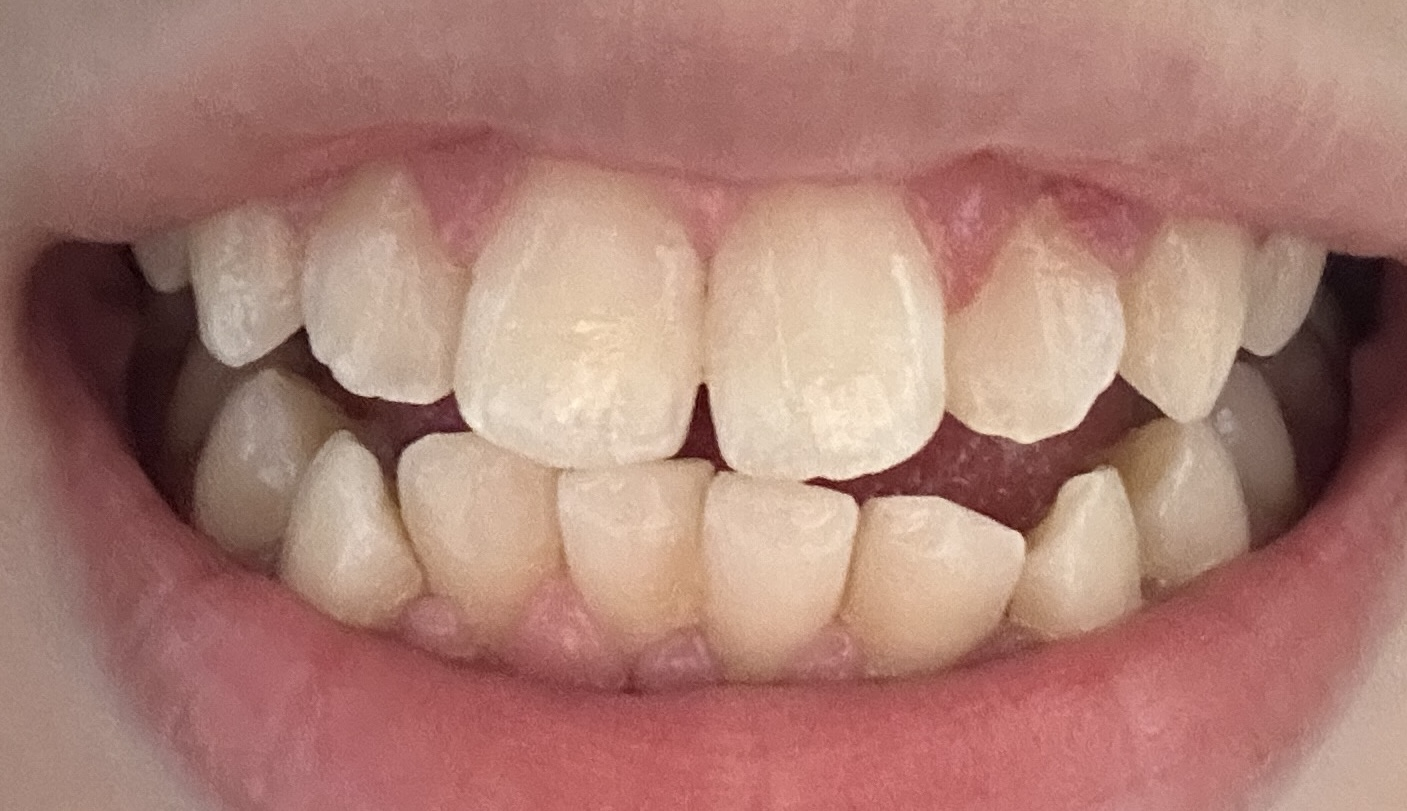teeth: (722, 207, 930, 471), (475, 180, 674, 452), (964, 232, 1117, 440), (319, 177, 444, 393), (285, 439, 413, 598), (417, 455, 545, 599), (731, 490, 838, 641), (891, 511, 1006, 648), (577, 478, 694, 603), (1140, 246, 1226, 408), (213, 400, 278, 538), (1047, 495, 1132, 598), (203, 221, 279, 336), (1159, 450, 1230, 556), (1238, 377, 1280, 481), (1271, 256, 1315, 328)
